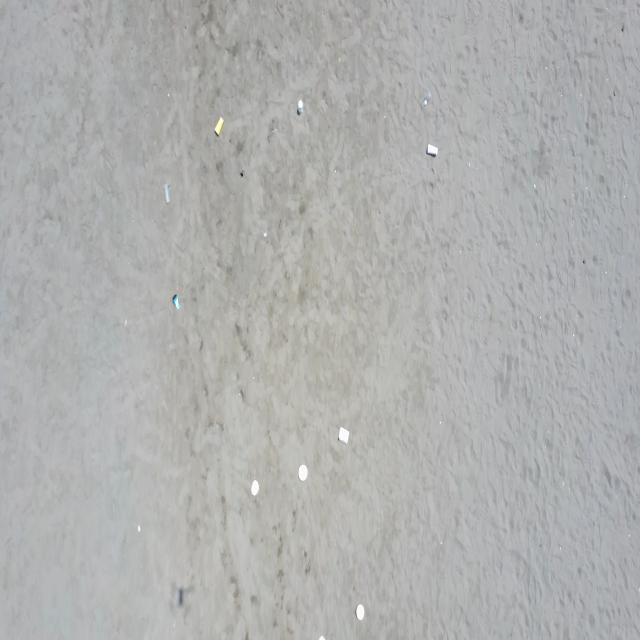take-away-containers: (338, 425, 350, 446), (298, 462, 308, 482), (250, 478, 260, 496), (355, 602, 365, 620)
takeaway-cup: (162, 182, 172, 205), (214, 116, 224, 137), (426, 142, 439, 158), (422, 90, 432, 110), (172, 293, 181, 312), (297, 97, 304, 116)
